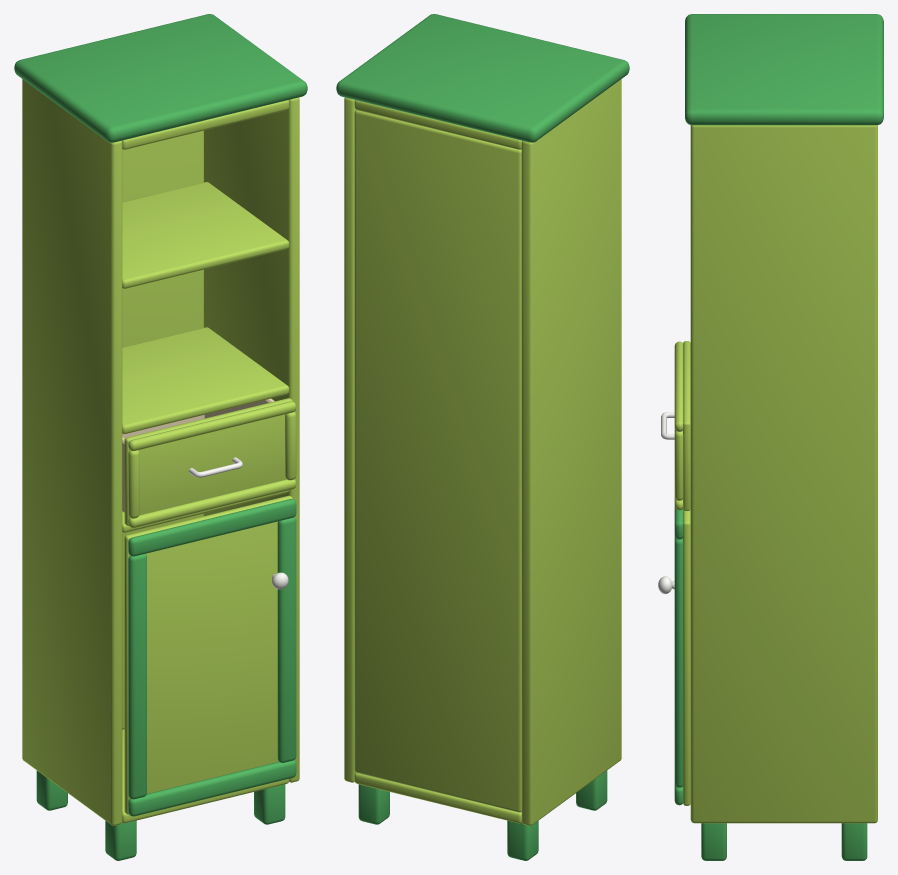
Rendered from armario_coluna_gaveta_verde.glb.
3 views of the same model, side by side, from view 1: azimuth 30°, elevation 25°; view 2: azimuth 150°, elevation 25°; view 3: azimuth 270°, elevation 25° (orthographic). The views are drawn at different scales.
Visible parts, largest first — view 1: armario_coluna_gaveta_verde, porta_1, gaveta_1; view 2: armario_coluna_gaveta_verde; view 3: armario_coluna_gaveta_verde, porta_1, gaveta_1.
Boxes of the visible parts, x1,y1,x2,y2 form: armario_coluna_gaveta_verde: (14, 14, 307, 860); porta_1: (124, 495, 296, 816); gaveta_1: (122, 398, 296, 527); armario_coluna_gaveta_verde: (336, 14, 629, 860); armario_coluna_gaveta_verde: (685, 14, 883, 860); porta_1: (658, 507, 690, 805); gaveta_1: (661, 341, 690, 510).
Size of the model in its own units: 0.405 by 1.43 by 0.3858.
1 material, 1 textured.
